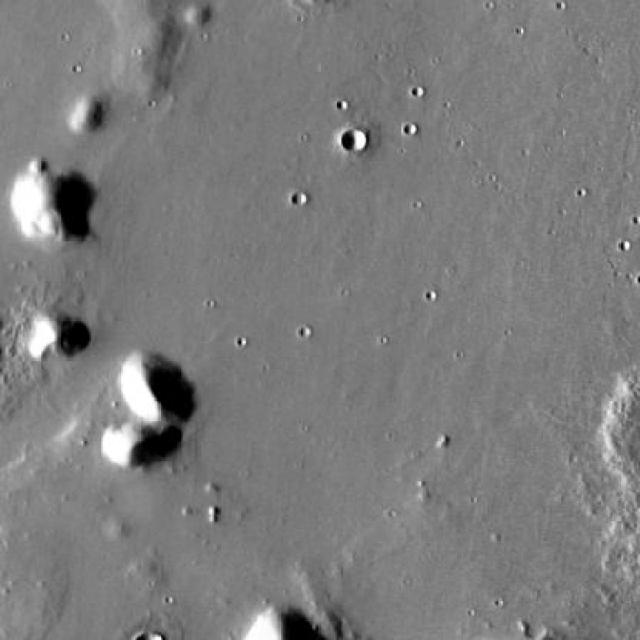crater: (341, 131, 364, 151)
